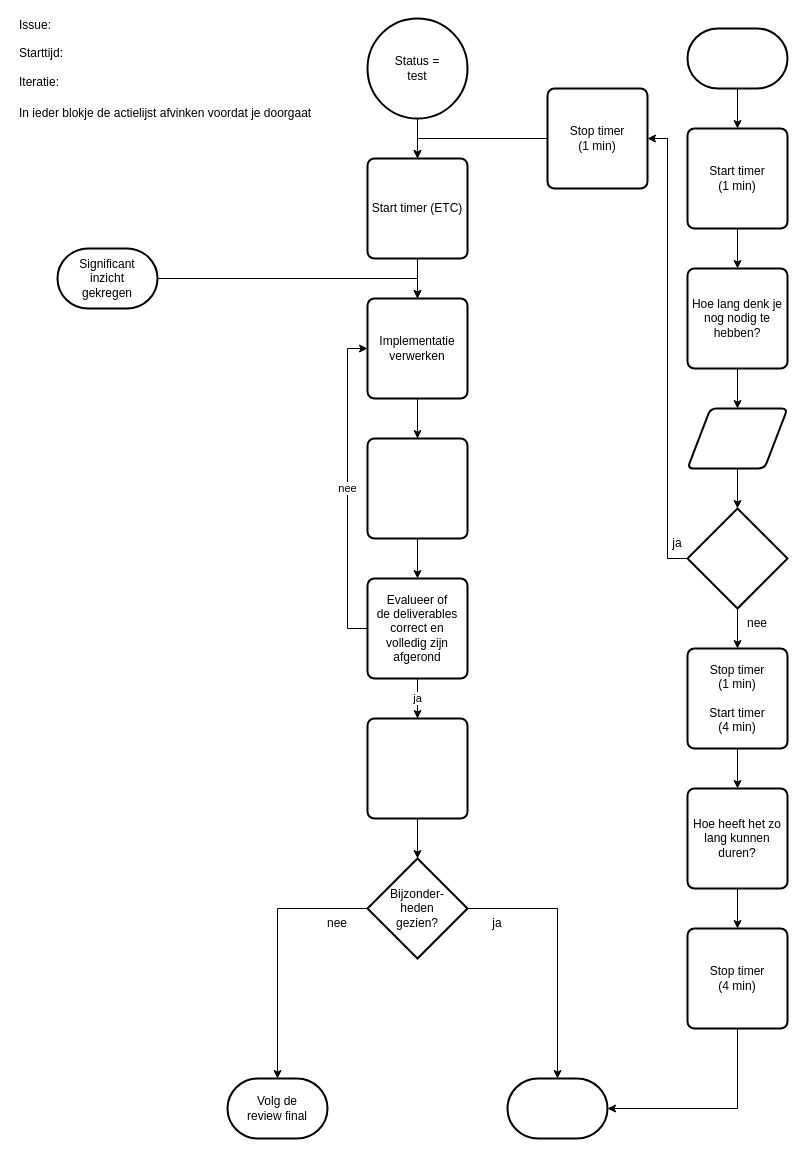
Image size: 805x1156. Some labels were removed from this diagram. Each missing label, with the centre of its shape:
"Haal ik het?" belongs at [737,558].
"Na 2/3 ETC Na 100% ETC Na 150% ETC" belongs at [737,58].
"Oplossing testen" belongs at [417,488].
"Stop timer (ETC)" belongs at [417,768].
"t: m." belongs at [737,438].
"Volg de meldplicht" belongs at [557,1108].
